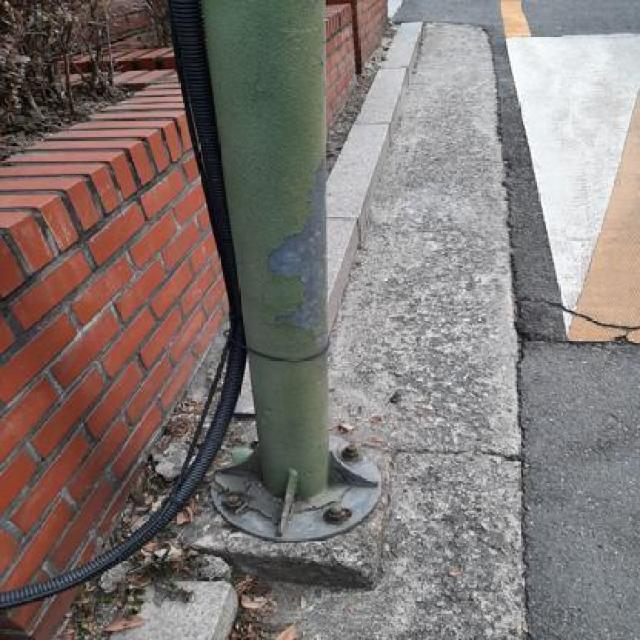pole: (185, 0, 388, 537)
